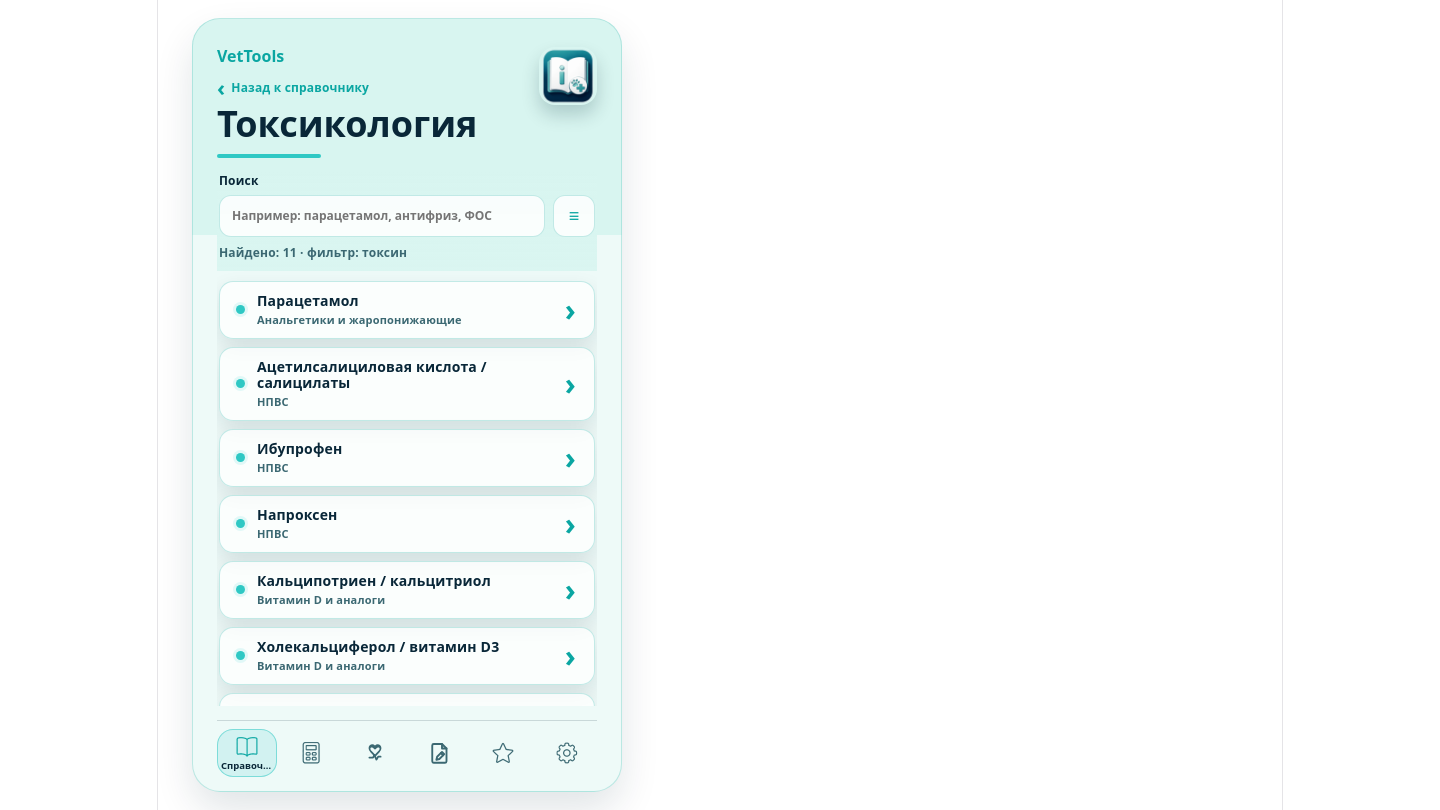
Test case: ToxicologyReferencePage › switches filtering to clinical signs
The width and height of the screenshot is (1440, 810).
Click the button named "Фильтр". click: [574, 216]
box: [553,195,595,237]
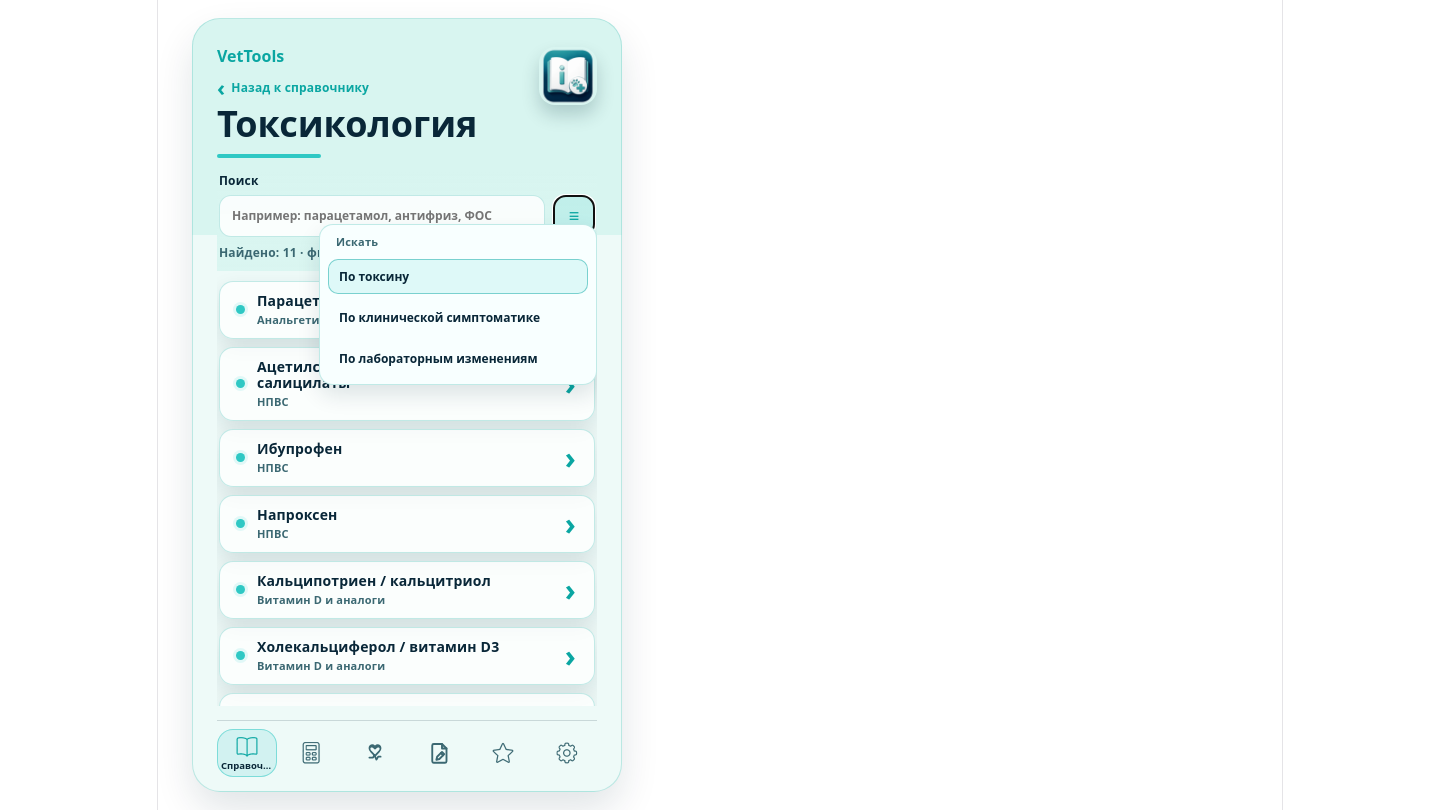
Click the menu item "По клинической симптоматике". click: [458, 318]
box: [328,300,588,335]
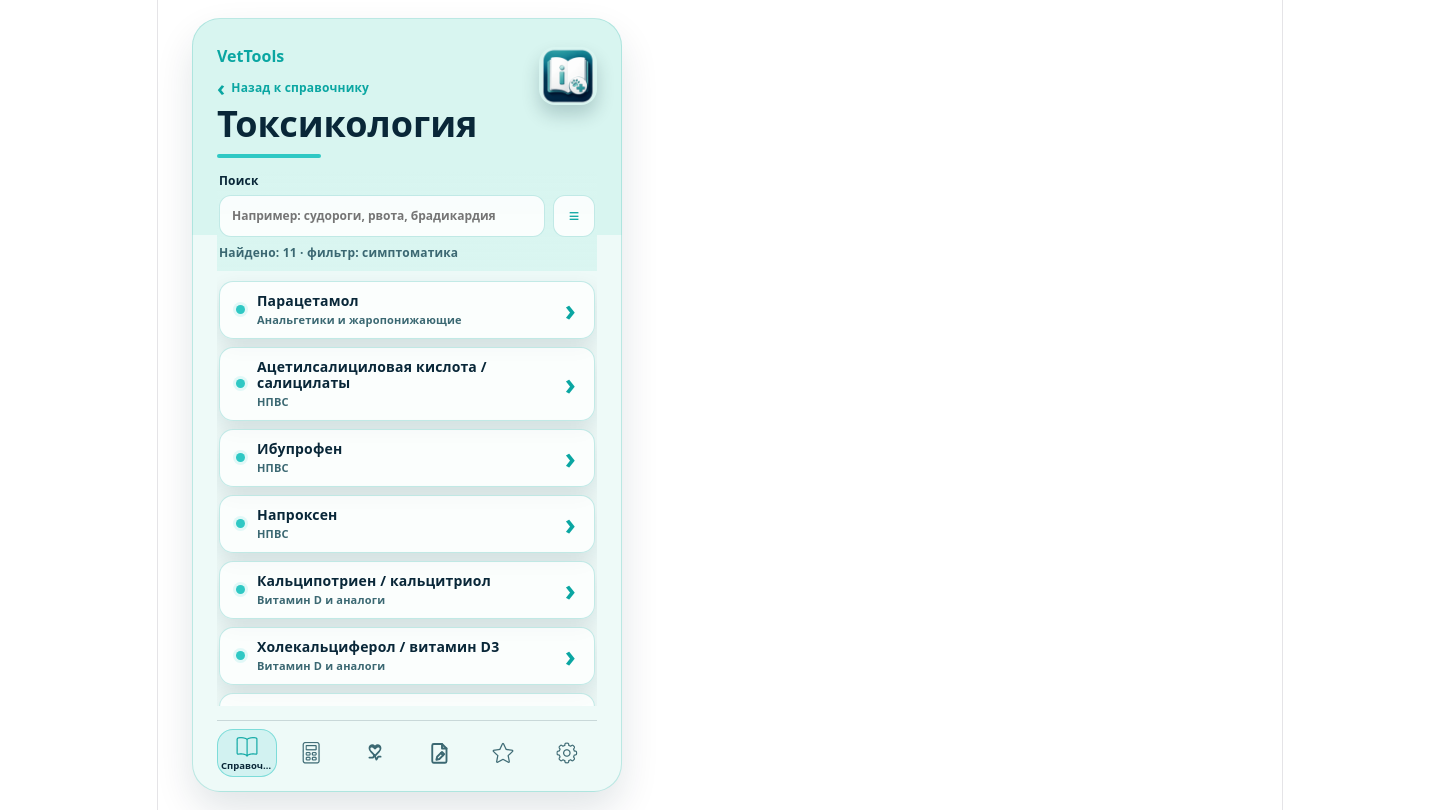
Type "судороги" into the search field named "Поиск по справочнику токсикологии". click: [382, 216]
box: [219,195,545,237]
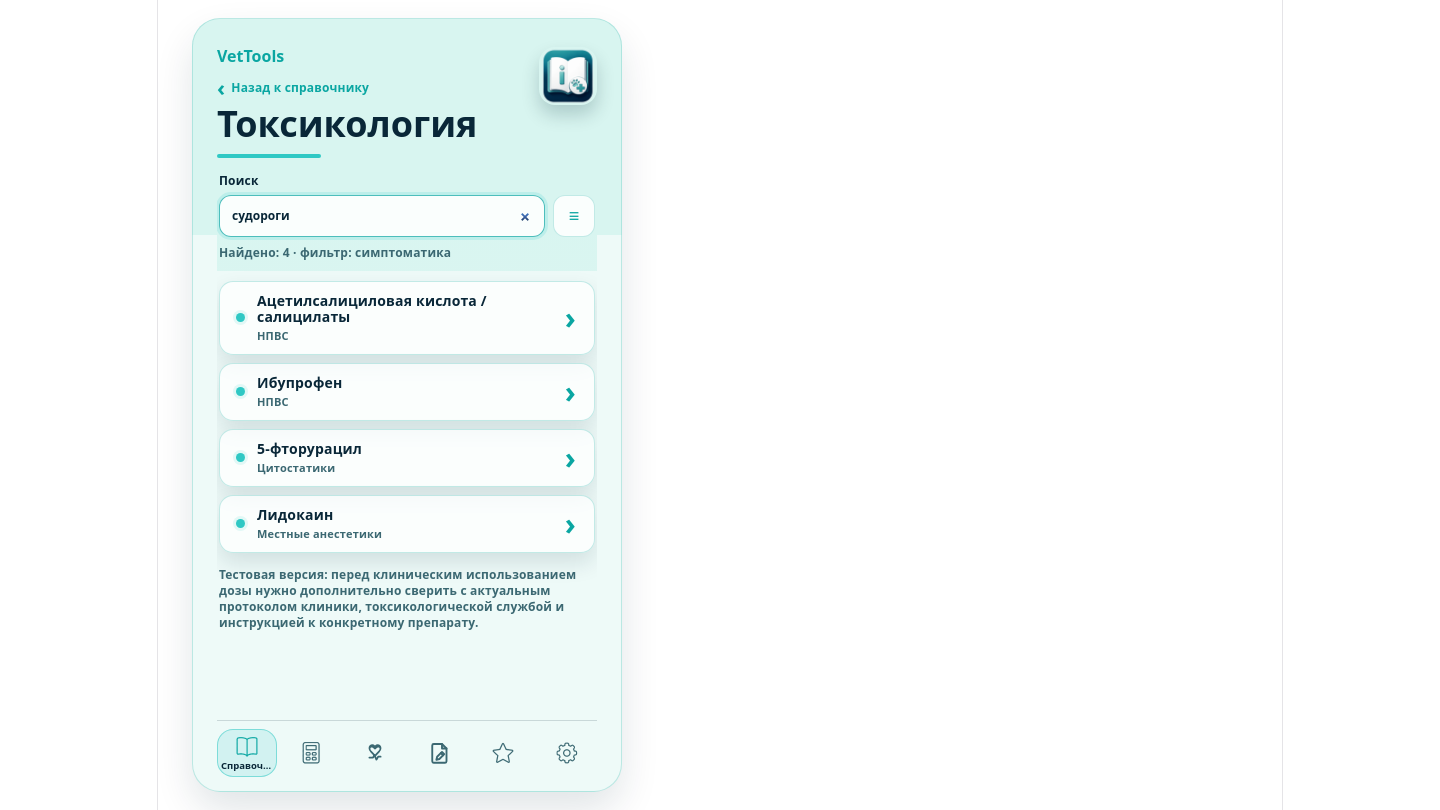
Expected: the text "Найдено: 4 · фильтр: симптоматика" is shown, [219,244,451,261]
Expected: the text "Лидокаин" is shown, [257,505,333,524]
